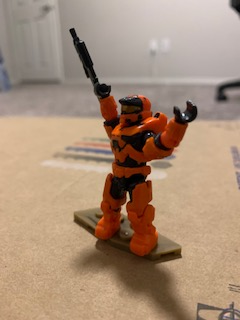rifle: (68, 28, 112, 102)
spartan: (94, 81, 198, 257)
up: (93, 82, 198, 169)
